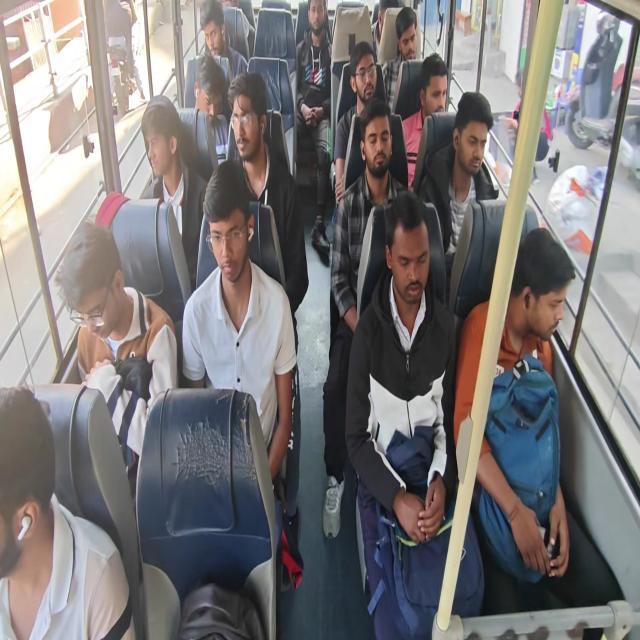person: (344, 190, 485, 638), (181, 158, 300, 540), (453, 226, 576, 584), (322, 97, 412, 540), (54, 217, 178, 504), (0, 385, 136, 639), (224, 71, 308, 352), (416, 90, 495, 299), (140, 95, 208, 292), (295, 0, 332, 262), (333, 40, 378, 206), (401, 53, 448, 189), (182, 54, 230, 174), (504, 69, 552, 182), (103, 0, 145, 102), (199, 0, 248, 86), (381, 7, 418, 111), (371, 0, 405, 62), (193, 54, 226, 117)
